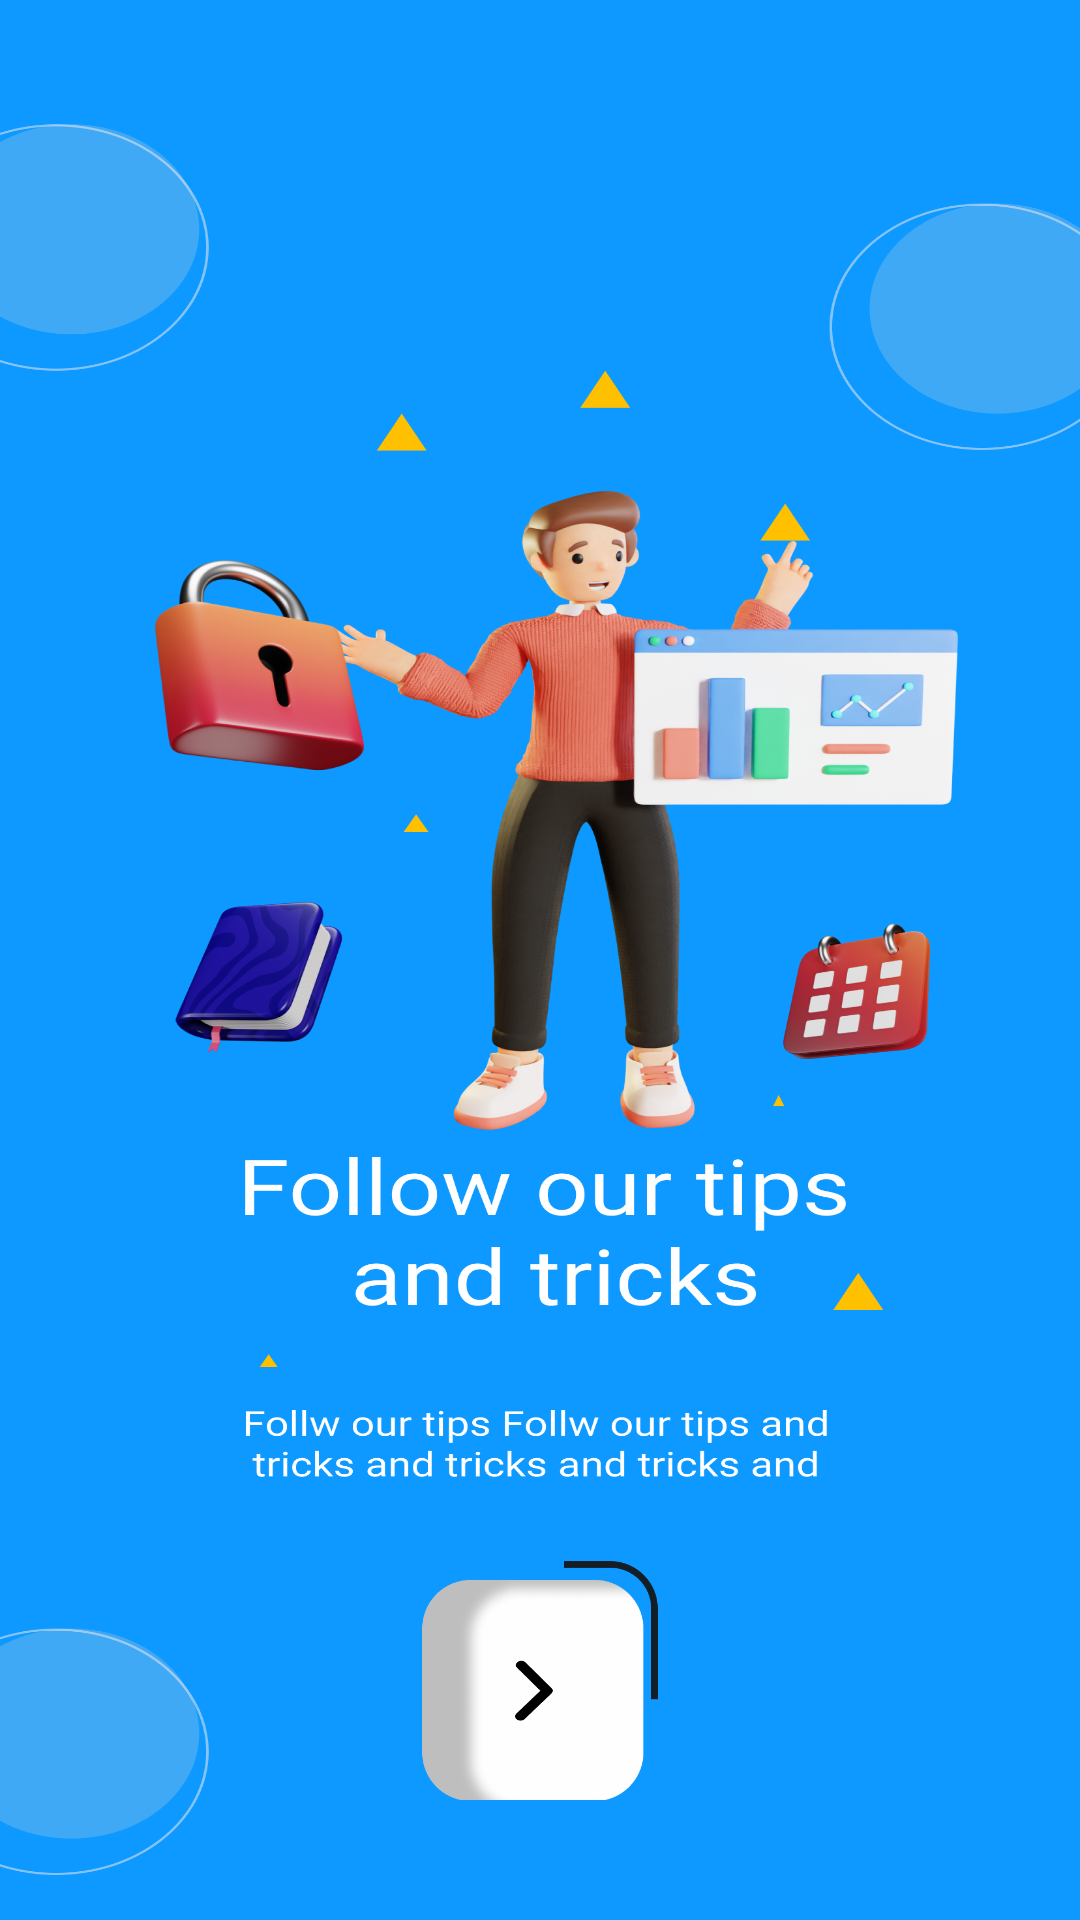

Icon bounding boxes for this 1080px x 1920px phone screenshot, format BBox(x1, y1, x2, y2):
forward: BBox(422, 1561, 658, 1800)
